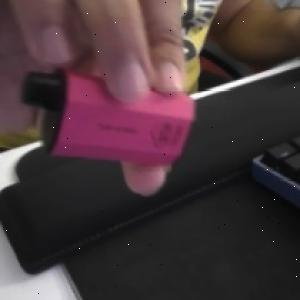Blume-E-Ciggirate: (20, 70, 200, 170)
